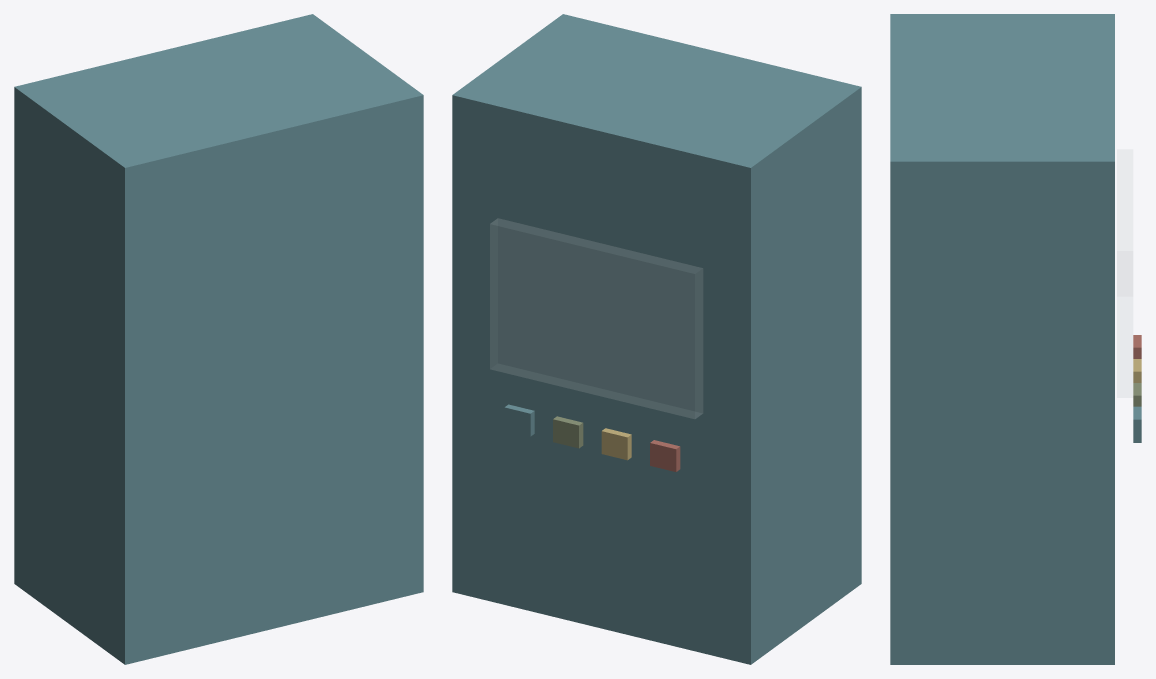
File: iz2_mission_bridge_control.glb
The picture shows the model from 3 angles, left to right: view 1: azimuth 30°, elevation 25°; view 2: azimuth 150°, elevation 25°; view 3: azimuth 270°, elevation 25°; orthographic projection.
Parts seen in each view (by area): view 1: body; view 2: body, screen; view 3: body, screen.
Part boxes in pixels (x1=…): body: x1=14, y1=14, x2=423, y2=664; body: x1=452, y1=14, x2=861, y2=664; screen: x1=490, y1=218, x2=702, y2=418; body: x1=890, y1=14, x2=1141, y2=664; screen: x1=1117, y1=149, x2=1132, y2=397.
Bounding box in the file's own units: 0.8297 × 1.32 × 0.5966.
